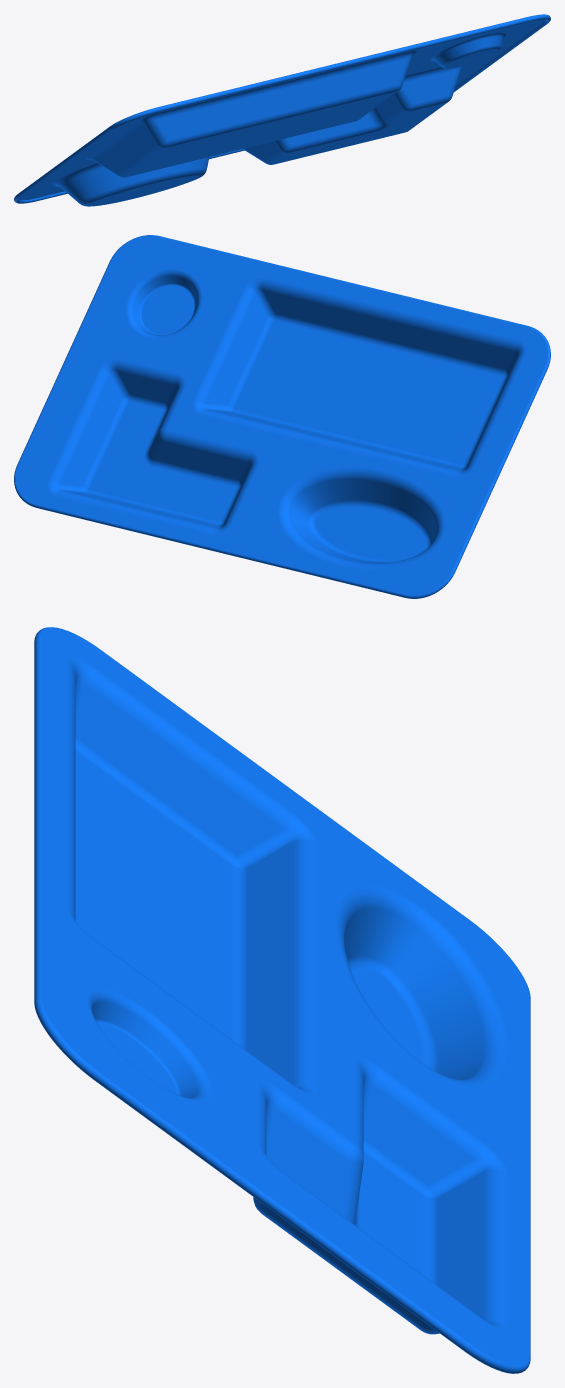
The model's file is bolt_tray.fbx.
3 views of the same model, one above another, from view 1: azimuth 30°, elevation 25°; view 2: azimuth 150°, elevation 25°; view 3: azimuth 270°, elevation 25° (orthographic). The views are drawn at different scales.
Parts seen in each view (by area): view 1: IGES_Independant_Entities; view 2: IGES_Independant_Entities; view 3: IGES_Independant_Entities.
Part boxes in pixels (<box>): IGES_Independant_Entities: <box>14,14,550,206</box>; IGES_Independant_Entities: <box>14,235,550,598</box>; IGES_Independant_Entities: <box>34,627,530,1373</box>.
Size of the model in its own units: 40.4 by 16.11 by 19.84.
